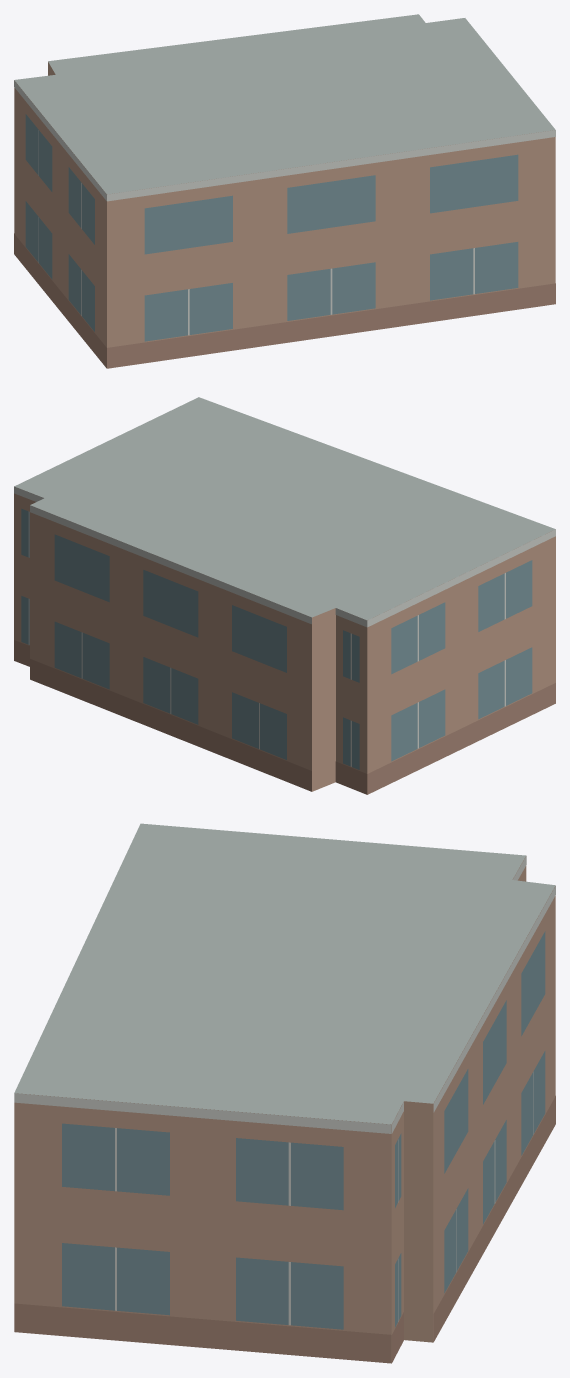
The model's file is survey-upis-32608606.glb.
The picture shows the model from 3 angles, top to bottom: view 1: azimuth 30°, elevation 25°; view 2: azimuth 150°, elevation 25°; view 3: azimuth 270°, elevation 25°; orthographic projection. The views are drawn at different scales.
Visible parts, largest first — view 1: survey-upis-32608606.tmp; view 2: survey-upis-32608606.tmp; view 3: survey-upis-32608606.tmp.
Boxes of the visible parts, box(x1,y1,x2,y2) form: survey-upis-32608606.tmp: box(14, 14, 555, 368); survey-upis-32608606.tmp: box(14, 397, 555, 794); survey-upis-32608606.tmp: box(14, 823, 555, 1363).
Bounding box in the file's own units: 16.49 × 6.1 × 12.54.
